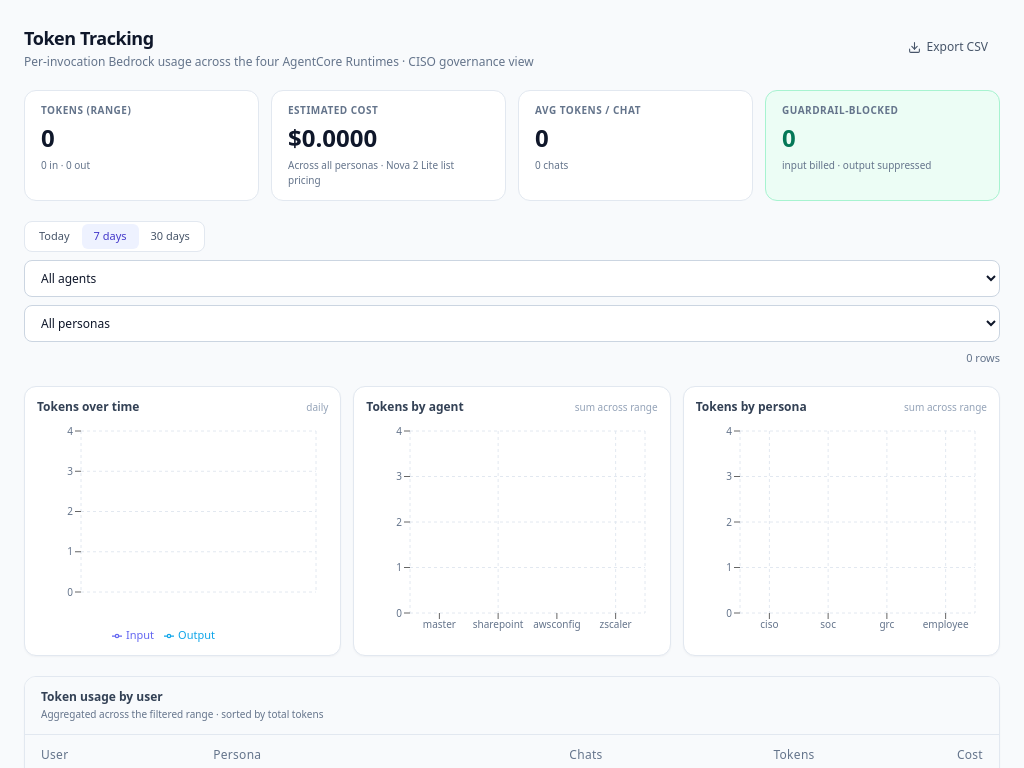
TokenTracking — KPI subtitle › switches to "CISO · Nova 2 Lite list pricing" when persona filter is ciso
Select "CISO" in the 2nd dropdown at (512, 323), box [24,304,1000,342]
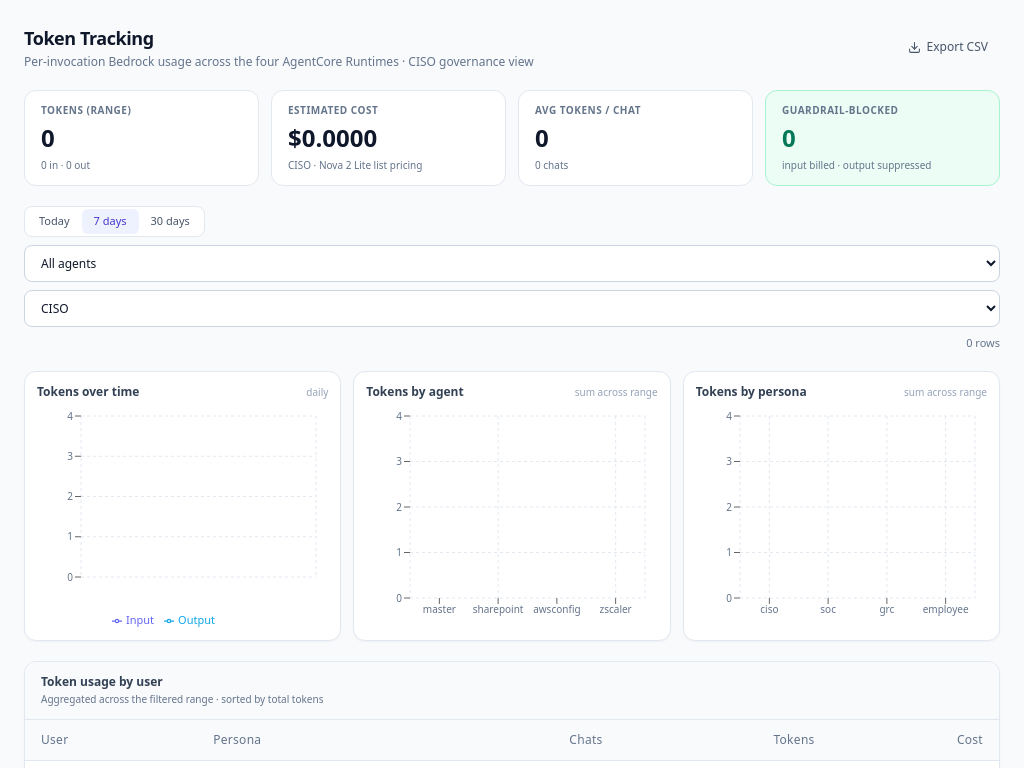
Now the text "CISO · Nova 2 Lite list pricing" is shown, box [288,158,422,172]
